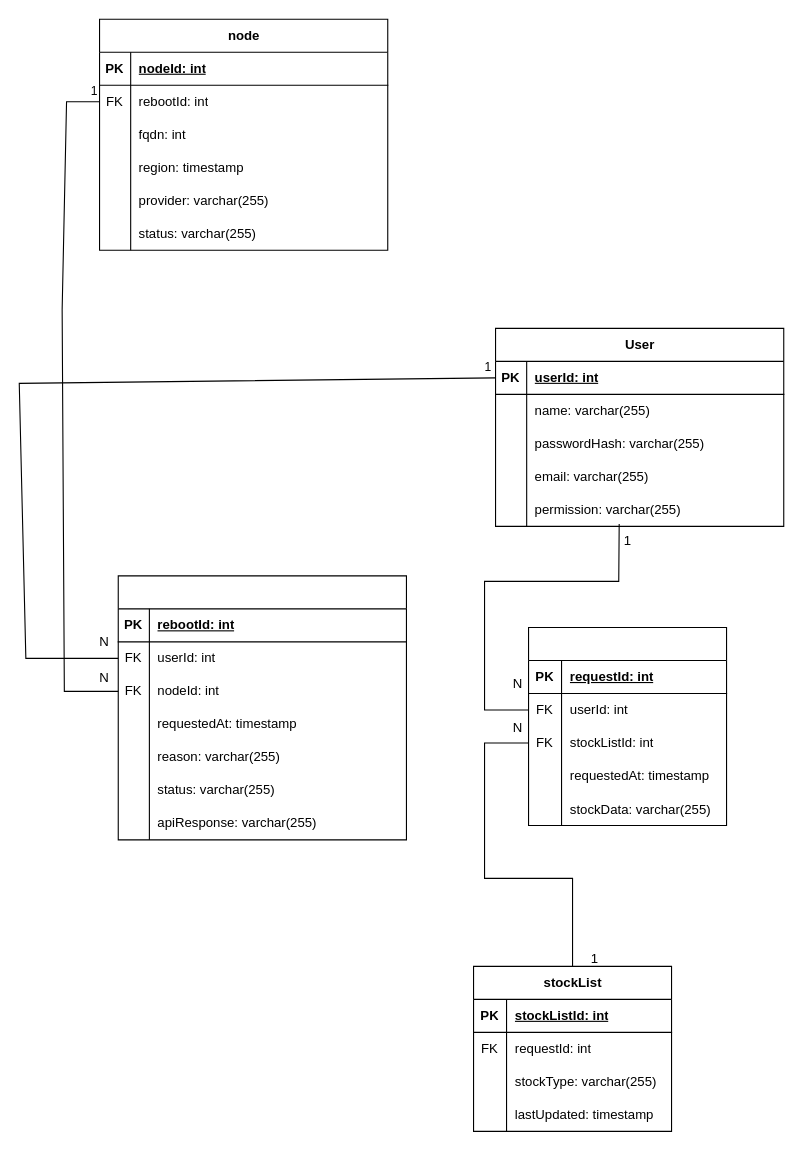
The diagram is 803 pixels wide and 1151 high, and some of its shapes have lost their labels. Each missing label, with the box of its shape:
rebootRequest: (117, 575, 406, 840)
stockRequest: (527, 626, 727, 826)
